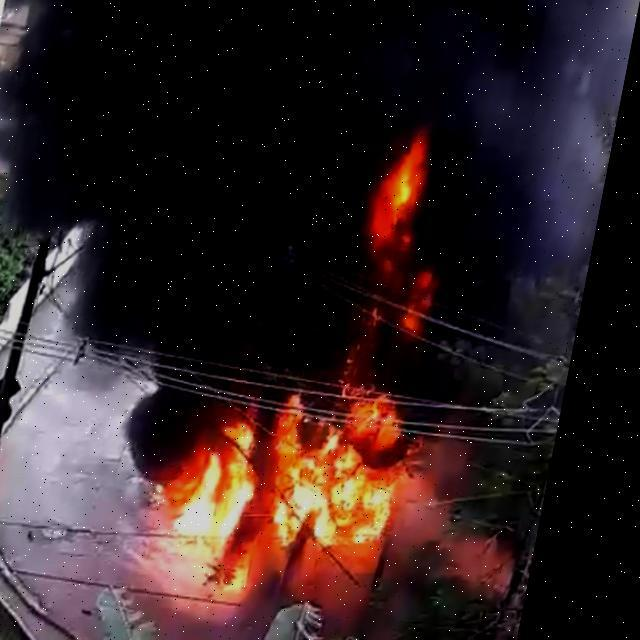Fire: (150, 373, 451, 594), (345, 127, 486, 336)
